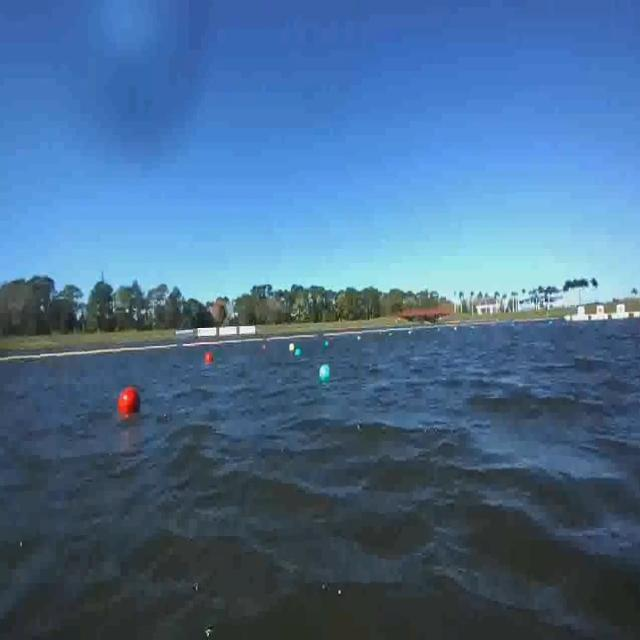green-buoy: (322, 362, 334, 382), (294, 346, 304, 362)
red-buoy: (120, 389, 143, 418), (203, 349, 216, 369)
